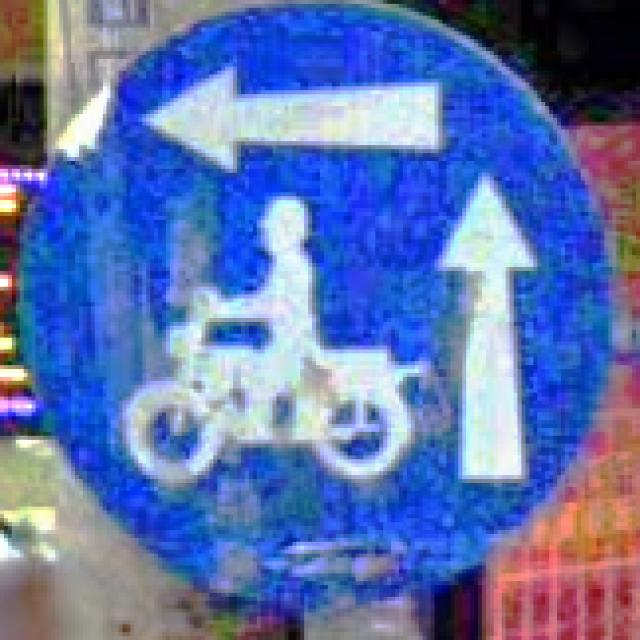twostageturn: (12, 0, 620, 609)
